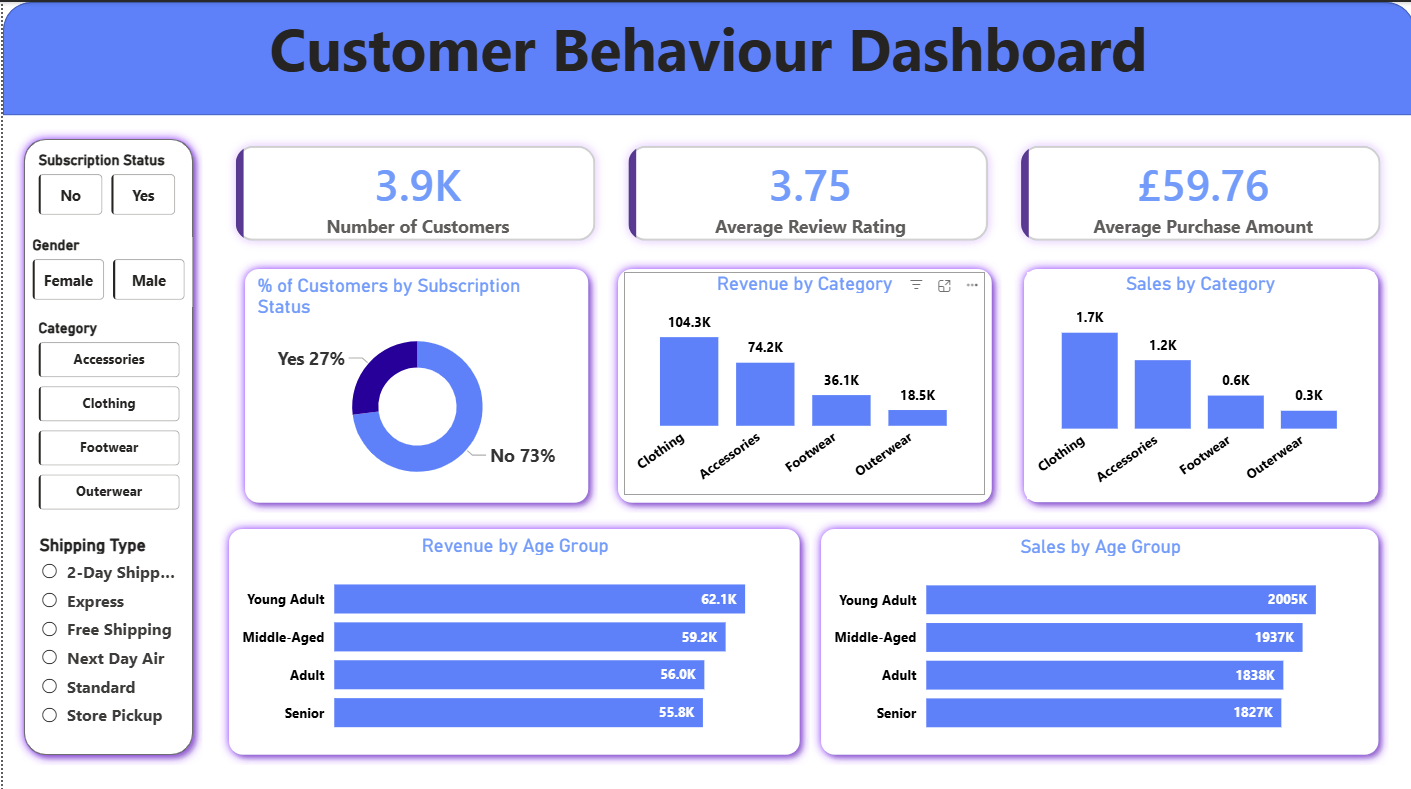

This screenshot's page, from the dashboard's own definition file:
{"tool":"powerbi","page":{"name":"Page 1","canvas":[1280,720],"ordinal":0},"visuals":[{"type":"cardVisual","fields":{"Data":["customer_behaviour customer.Number of Customers","customer_behaviour customer.Average Review Rating","customer_behaviour customer.Average Purchase Amount"]},"box":[183.1,102.1,1096.9,142.6],"z":0},{"type":"shape","box":[0,0,1280,102.8],"z":1000},{"type":"textbox","box":[187.7,0,904.1,85.2],"z":2000},{"type":"shape","box":[210.7,232.8,329.4,230.1],"z":3000},{"type":"donutChart","title":"% of Customers by Subscription Status","fields":{"Category":["customer_behaviour customer.subscription_status"],"Y":["CountNonNull(customer_behaviour customer.customer_id)"]},"box":[225.4,246.6,300,202.4],"z":4000},{"type":"shape","box":[916.5,232.8,339.3,229.7],"z":5000},{"type":"shape","box":[548.4,232.8,357,230.1],"z":6000},{"type":"shape","box":[196,468.4,535.6,222.7],"z":7000},{"type":"shape","box":[732.5,468.4,523.6,222.7],"z":9000,"group":"g1"},{"type":"clusteredColumnChart","title":"Revenue by Category","fields":{"Category":["customer_behaviour customer.category"],"Y":["Sum(customer_behaviour customer.purchase_amount)"]},"box":[563.2,244.8,327.6,202.4],"z":9001},{"type":"clusteredColumnChart","title":"Sales by Category","fields":{"Category":["customer_behaviour customer.category"],"Y":["CountNonNull(customer_behaviour customer.customer_id)"]},"box":[928.5,244.6,314.7,206],"z":9002},{"type":"shape","box":[10,115.2,171.4,576.7],"z":9003},{"type":"advancedSlicerVisual","title":"Subscription Status","fields":{"Values":["customer_behaviour customer.subscription_status"]},"box":[27.6,136.2,135.3,62.6],"z":9004},{"type":"advancedSlicerVisual","title":"Gender","fields":{"Values":["customer_behaviour customer.gender"]},"box":[21.8,213.1,149.6,62.6],"z":9005},{"type":"advancedSlicerVisual","title":"Category","fields":{"Values":["customer_behaviour customer.category"]},"box":[27.2,288.4,138.7,180.5],"z":9006},{"type":"listSlicer","title":"Shipping Type","fields":{"Values":["customer_behaviour customer.shipping_type"]},"box":[28.1,482.4,136,185],"z":9007},{"type":"clusteredBarChart","title":"Revenue by Age Group ","fields":{"Y":["Sum(customer_behaviour customer.purchase_amount)"],"Category":["customer_behaviour customer.age_group"]},"box":[210.7,482.2,508,195.1],"z":9008},{"type":"clusteredBarChart","title":"Sales by Age Group ","fields":{"Category":["customer_behaviour customer.age_group"],"Y":["Sum(customer_behaviour customer.customer_id)"]},"box":[746.8,482.8,496,194.2],"z":9009,"group":"g1"},{"type":"group","id":"g1","title":"Group 3","box":[732.5,468.4,523.6,222.7],"z":9012}]}

Visuals, with their boxes in screenshot pixels (x1, y1, x2, y2), scaled from the page's 1280x720 canvas onto the 1411x789 screenshot:
cardVisual - customer_behaviour customer.Number of Customers x customer_behaviour customer.Average Review Rating: {"x1": 202, "y1": 112, "x2": 1410, "y2": 268}
shape: {"x1": 0, "y1": 0, "x2": 1410, "y2": 113}
textbox: {"x1": 207, "y1": 0, "x2": 1204, "y2": 93}
shape: {"x1": 232, "y1": 255, "x2": 595, "y2": 507}
"% of Customers by Subscription Status" donutChart: {"x1": 248, "y1": 270, "x2": 579, "y2": 492}
shape: {"x1": 1010, "y1": 255, "x2": 1384, "y2": 507}
shape: {"x1": 605, "y1": 255, "x2": 998, "y2": 507}
shape: {"x1": 216, "y1": 513, "x2": 806, "y2": 757}
shape: {"x1": 807, "y1": 513, "x2": 1385, "y2": 757}
"Revenue by Category" clusteredColumnChart: {"x1": 621, "y1": 268, "x2": 982, "y2": 490}
"Sales by Category" clusteredColumnChart: {"x1": 1024, "y1": 268, "x2": 1370, "y2": 494}
shape: {"x1": 11, "y1": 126, "x2": 200, "y2": 758}
"Subscription Status" advancedSlicerVisual: {"x1": 30, "y1": 149, "x2": 180, "y2": 218}
"Gender" advancedSlicerVisual: {"x1": 24, "y1": 234, "x2": 189, "y2": 302}
"Category" advancedSlicerVisual: {"x1": 30, "y1": 316, "x2": 183, "y2": 514}
"Shipping Type" listSlicer: {"x1": 31, "y1": 529, "x2": 181, "y2": 731}
"Revenue by Age Group " clusteredBarChart: {"x1": 232, "y1": 528, "x2": 792, "y2": 742}
"Sales by Age Group " clusteredBarChart: {"x1": 823, "y1": 529, "x2": 1370, "y2": 742}
"Group 3" group: {"x1": 807, "y1": 513, "x2": 1385, "y2": 757}
